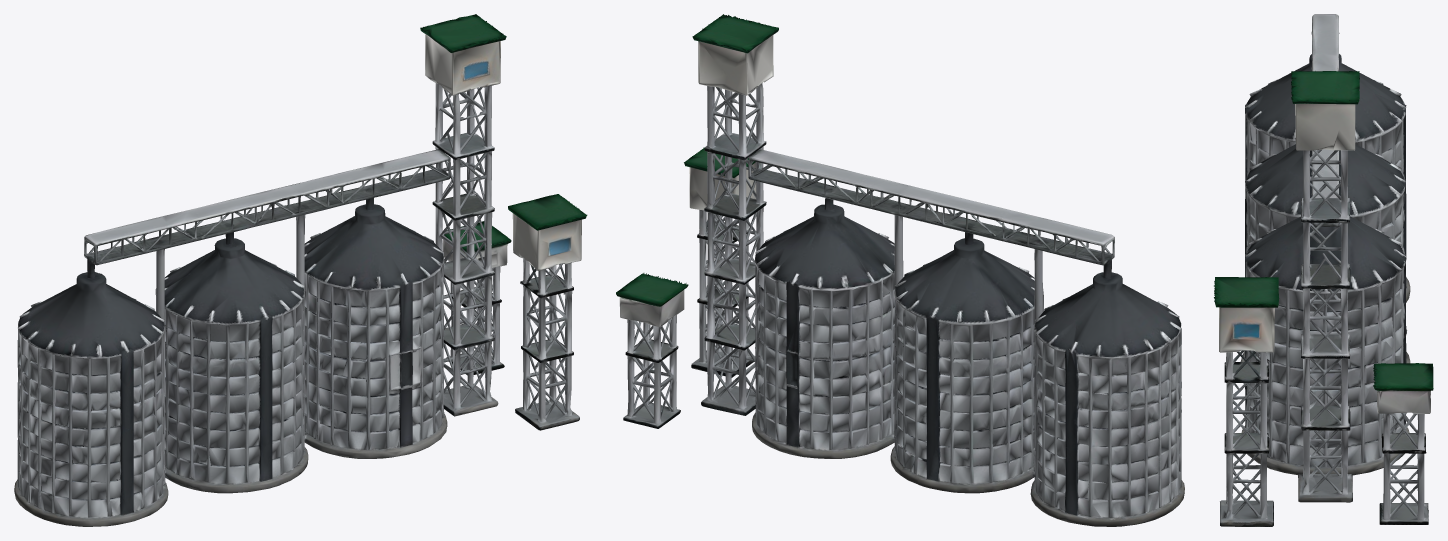
The model's file is portal_09.glb.
3 renders of one model, left to right at view 1: azimuth 30°, elevation 25°; view 2: azimuth 150°, elevation 25°; view 3: azimuth 270°, elevation 25°, orthographic. The views are drawn at different scales.
Size of the model in its own units: 0.9812 by 0.6823 by 0.3339.
Materials: 1 (1 with a texture image).
